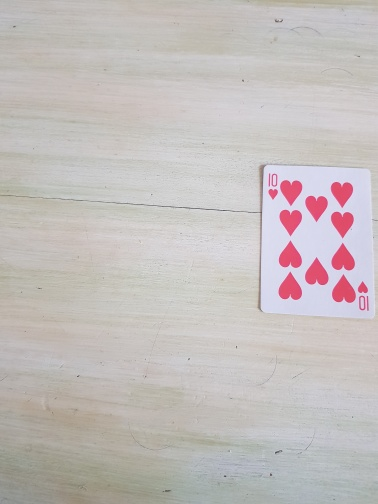ten: (258, 163, 377, 320)
